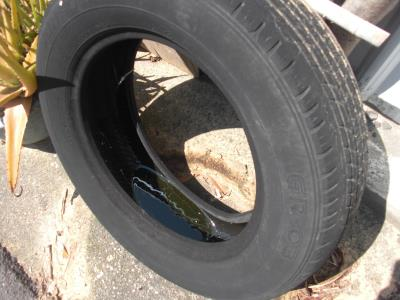tire: (33, 1, 369, 294)
